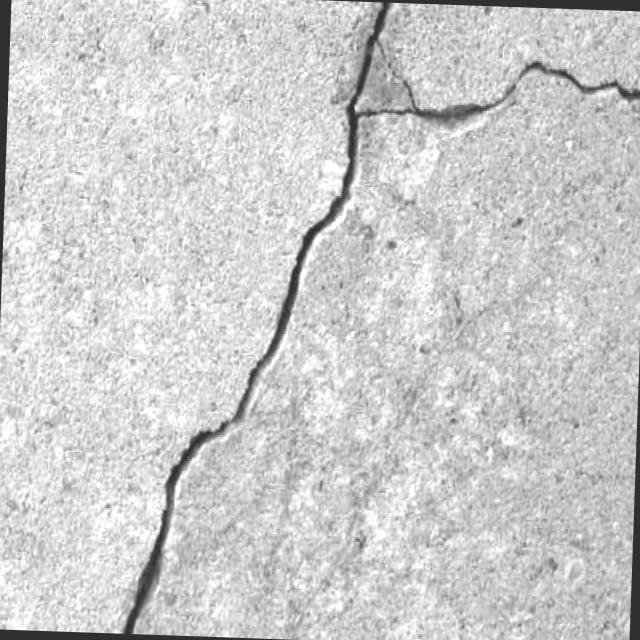crack: (341, 2, 640, 144), (234, 129, 361, 447), (120, 411, 236, 635)
